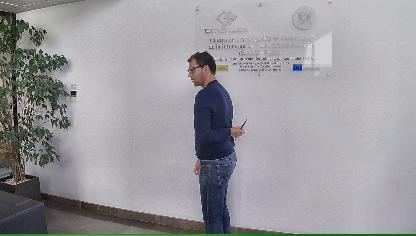knife: (232, 116, 247, 140)
